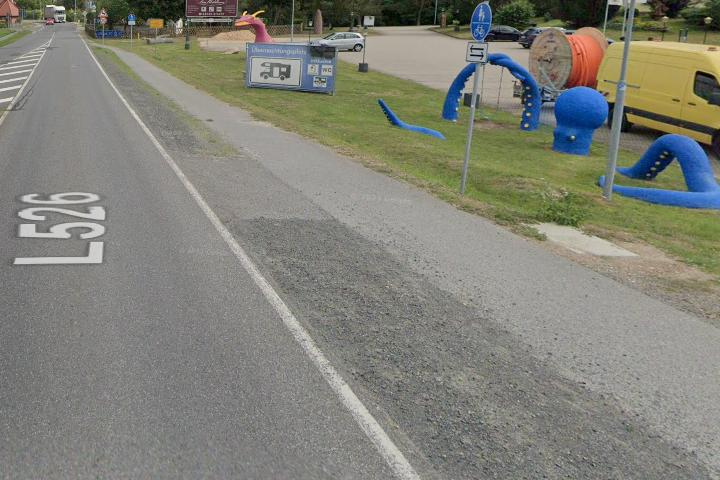traffic_sign: (469, 2, 492, 41), (99, 8, 108, 16)
vehicle: (584, 31, 720, 160), (308, 27, 366, 53), (41, 4, 69, 24)
